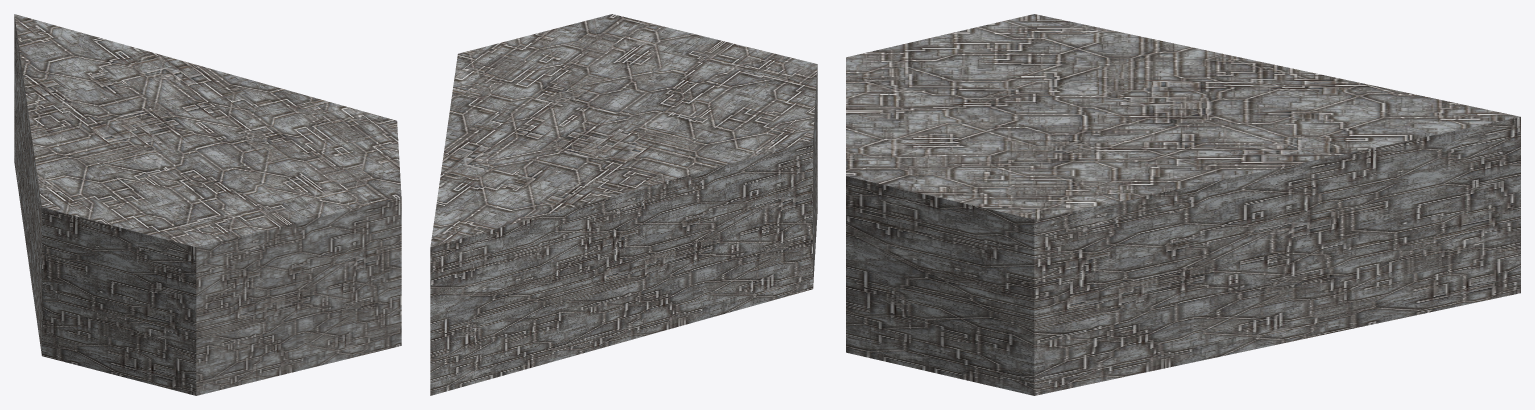
File: Ship1.obj
3 renders of one model, left to right at view 1: azimuth 30°, elevation 25°; view 2: azimuth 150°, elevation 25°; view 3: azimuth 270°, elevation 25°, orthographic. The views are drawn at different scales.
Visible parts, largest first — view 1: Ship; view 2: Ship; view 3: Ship.
Boxes of the visible parts, left/top/right/bottom form: Ship: left=14, top=14, right=401, bottom=395; Ship: left=430, top=14, right=817, bottom=395; Ship: left=846, top=14, right=1520, bottom=395.
Size of the model in its own units: 5 by 2 by 6.94.
